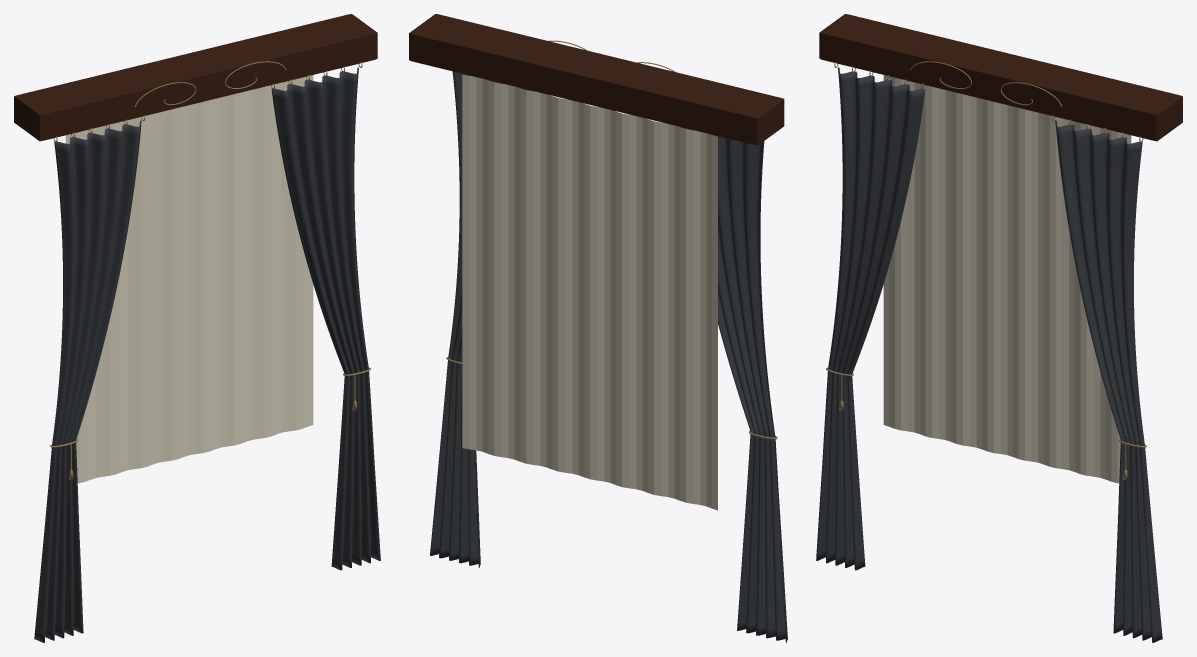
The model's file is Curtain_Pair.fbx.
The picture shows the model from 3 angles, left to right: view 1: azimuth 30°, elevation 25°; view 2: azimuth 150°, elevation 25°; view 3: azimuth 330°, elevation 25°; orthographic projection. The views are drawn at different scales.
Visible parts, largest first — view 1: Inner sheer curtain.001, Hanging gathered drape.003, Hanging gathered drape.002, Curtain pelmet.001; view 2: Inner sheer curtain.001, Curtain pelmet.001, Hanging gathered drape.002, Hanging gathered drape.003; view 3: Inner sheer curtain.001, Hanging gathered drape.002, Hanging gathered drape.003, Curtain pelmet.001.
Boxes of the visible parts, <box> form: Inner sheer curtain.001: <box>65,75,313,483</box>; Hanging gathered drape.003: <box>271,67,380,570</box>; Hanging gathered drape.002: <box>34,120,141,642</box>; Curtain pelmet.001: <box>14,14,377,141</box>; Inner sheer curtain.001: <box>462,74,717,510</box>; Curtain pelmet.001: <box>409,14,784,145</box>; Hanging gathered drape.002: <box>679,126,787,642</box>; Hanging gathered drape.003: <box>430,71,534,567</box>; Inner sheer curtain.001: <box>883,75,1131,483</box>; Hanging gathered drape.002: <box>816,67,925,570</box>; Hanging gathered drape.003: <box>1055,120,1162,642</box>; Curtain pelmet.001: <box>819,14,1182,141</box>.
Bounding box in the file's own units: 2.29 × 3.34 × 0.365.
